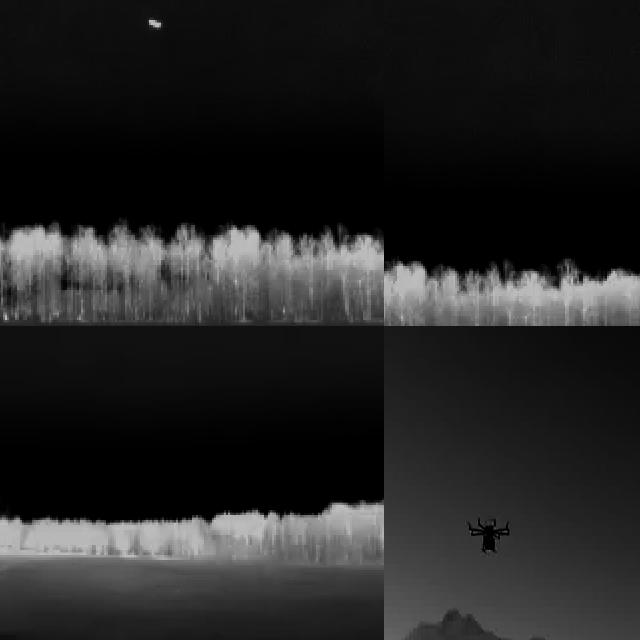1: (135, 11, 171, 41)
drone: (466, 509, 510, 560)
